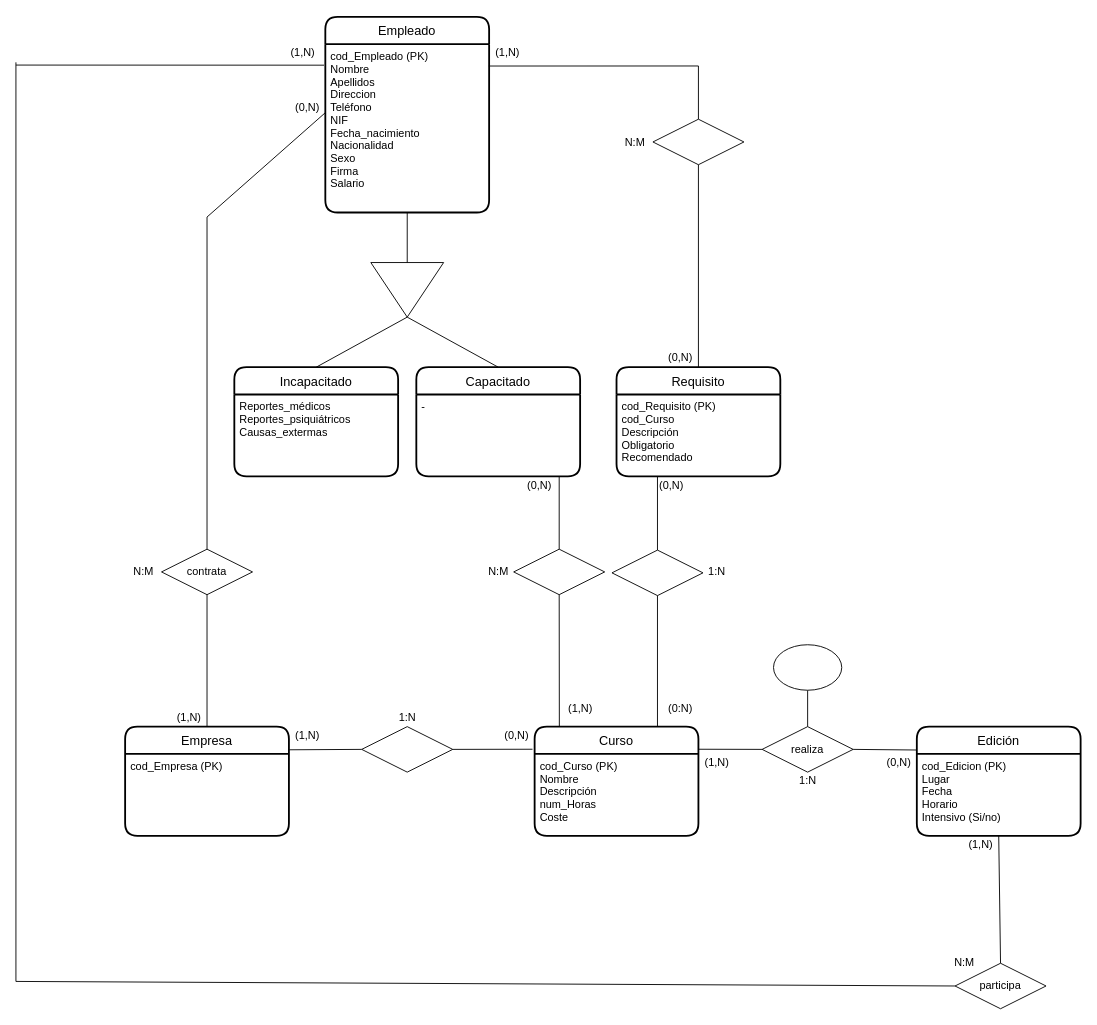
The diagram is 1097 pixels wide and 1025 high, and some of its shapes have lost their labels. The box of each missing label's shape, as (x1, y1, x2, y2) in pixels:
cumplidor de: (652, 118, 744, 165)
establece: (611, 549, 703, 596)
Fecha: (773, 644, 842, 690)
imparte: (513, 548, 605, 595)
organiza: (361, 726, 453, 772)
